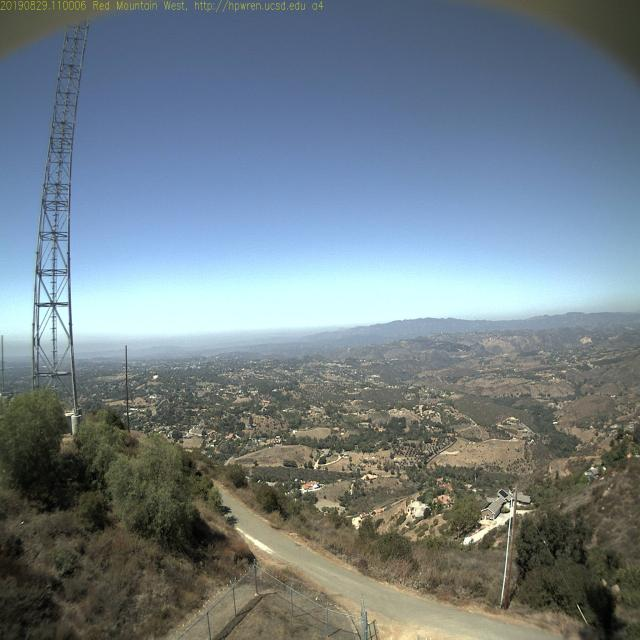smoke: (334, 324, 348, 342)
